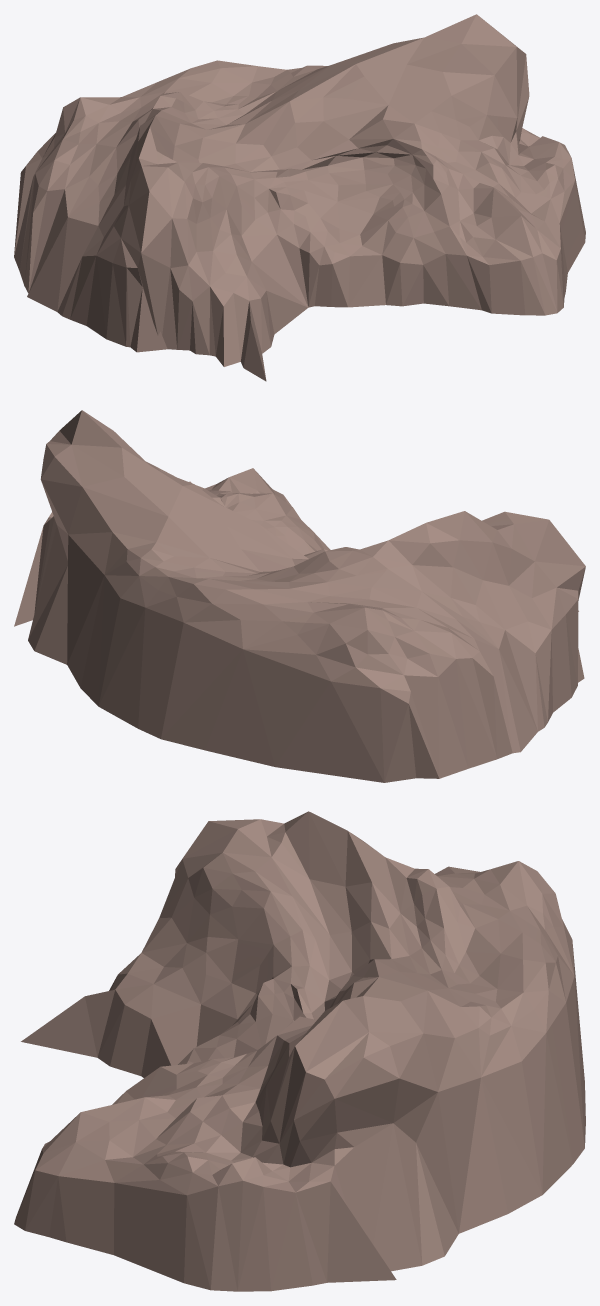
Rendered from mountain_001.fbx.
The picture shows the model from 3 angles, top to bottom: view 1: azimuth 30°, elevation 25°; view 2: azimuth 150°, elevation 25°; view 3: azimuth 270°, elevation 25°; orthographic projection. The views are drawn at different scales.
Visible parts, largest first — view 1: mountain.001; view 2: mountain.001; view 3: mountain.001.
Boxes of the visible parts, box(x1,y1,x2,y2) form: mountain.001: box(14, 14, 585, 381); mountain.001: box(14, 410, 585, 782); mountain.001: box(14, 811, 585, 1291).
Size of the model in its own units: 5836 by 2230 by 4571.
Materials: 1 (1 with a texture image).
